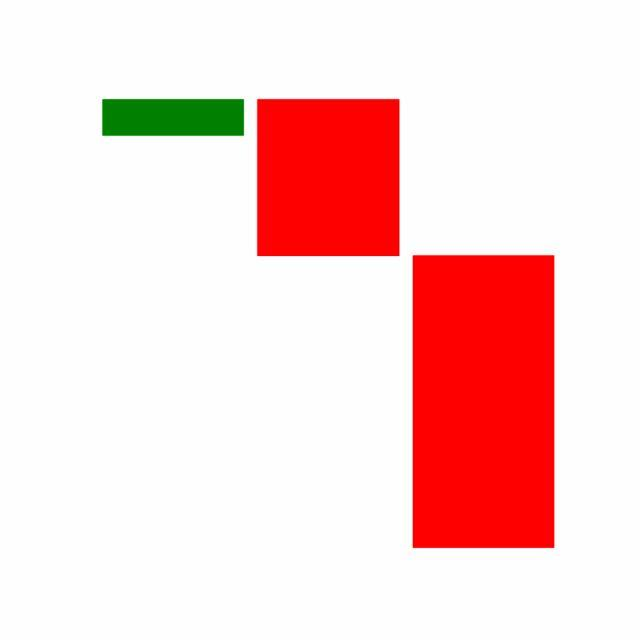Marubozu: (250, 98, 407, 258)
